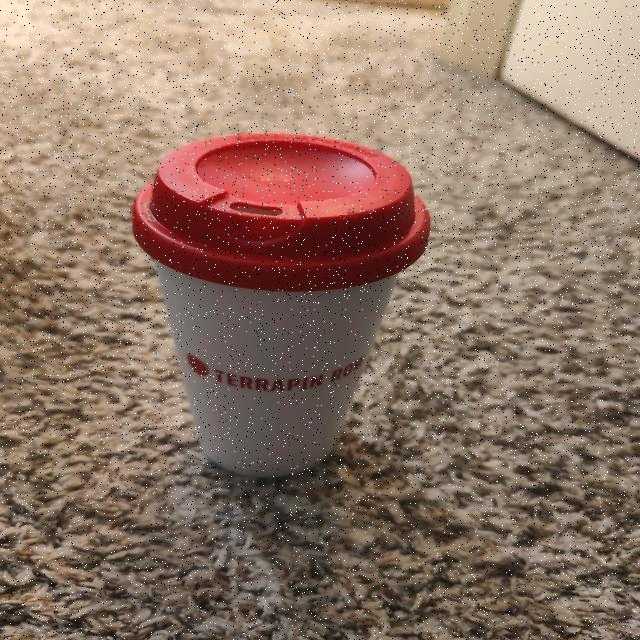mug: (128, 137, 430, 481)
